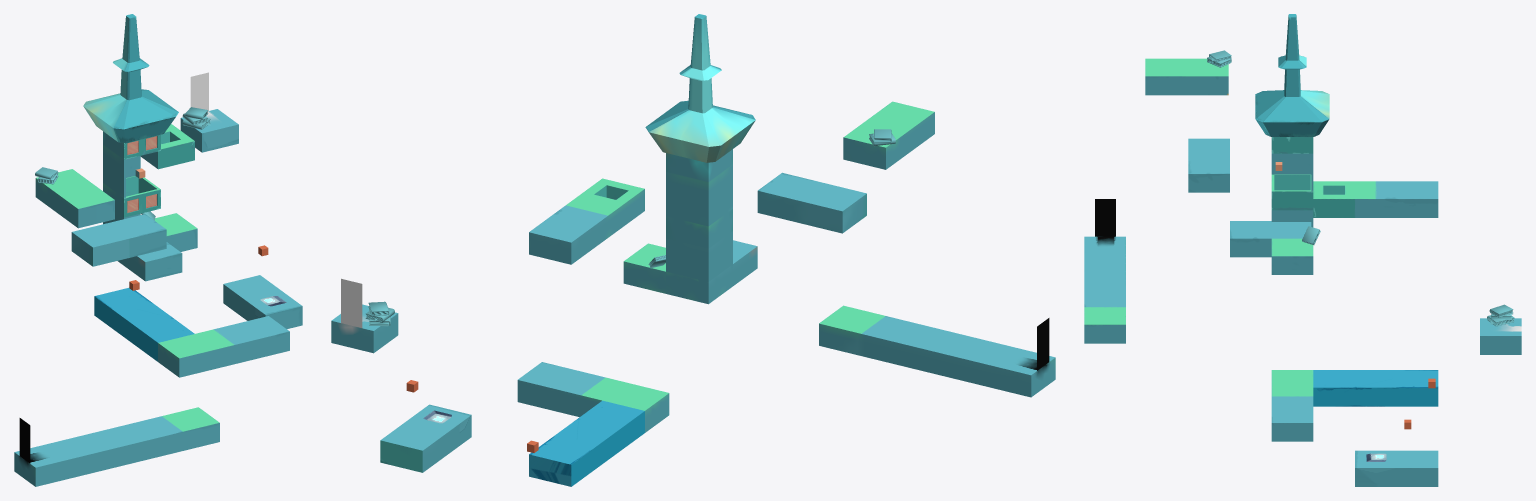
File: level2_DifferentRoof.fbx
The picture shows the model from 3 angles, left to right: view 1: azimuth 30°, elevation 25°; view 2: azimuth 150°, elevation 25°; view 3: azimuth 270°, elevation 25°; orthographic projection. The views are drawn at different scales.
Visible parts, largest first — view 1: StaticPiece, MovingPieceIDKwhatthisis, Exit, Entrance; view 2: StaticPiece, MovingPieceIDKwhatthisis, Exit; view 3: StaticPiece, MovingPieceIDKwhatthisis, Entrance.
Boxes of the visible parts, left/top/right/bottom form: StaticPiece: left=14, top=14, right=302, bottom=486; MovingPieceIDKwhatthisis: left=94, top=288, right=194, bottom=361; Exit: left=190, top=72, right=208, bottom=110; Entrance: left=19, top=418, right=30, bottom=463; StaticPiece: left=331, top=14, right=1055, bottom=472; MovingPieceIDKwhatthisis: left=529, top=400, right=644, bottom=486; Exit: left=341, top=278, right=362, bottom=327; StaticPiece: left=1084, top=14, right=1521, bottom=486; MovingPieceIDKwhatthisis: left=1313, top=370, right=1438, bottom=406; Entrance: left=1095, top=199, right=1115, bottom=236.
Size of the model in its own units: 22 by 19.83 by 21.
Materials: 6 (3 with a texture image).
